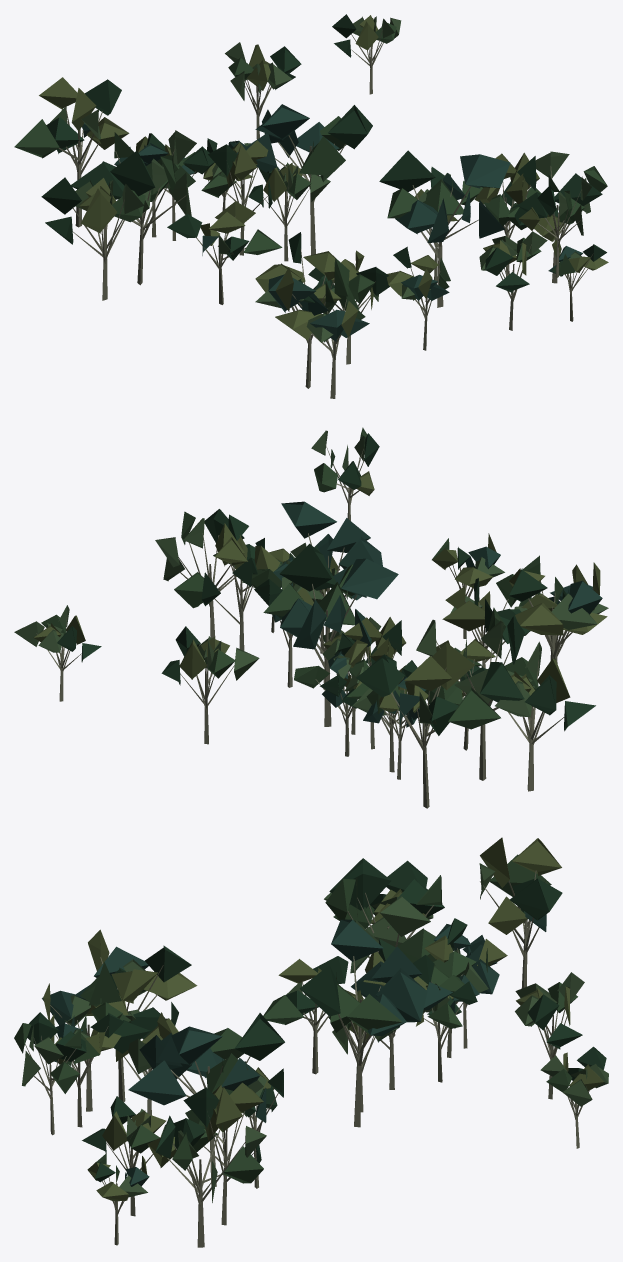
File: forest_18_21.dae
3 views of the same model, one above another, from view 1: azimuth 30°, elevation 25°; view 2: azimuth 150°, elevation 25°; view 3: azimuth 270°, elevation 25° (orthographic). The views are drawn at different scales.
Visible parts, largest first — view 1: Node; view 2: Node; view 3: Node.
Boxes of the visible parts, bbox=[...] form: Node: bbox=[14, 14, 608, 398]; Node: bbox=[14, 427, 608, 808]; Node: bbox=[14, 837, 608, 1247].
Bounding box in the file's own units: 11.04 × 10.59 × 4.53.
